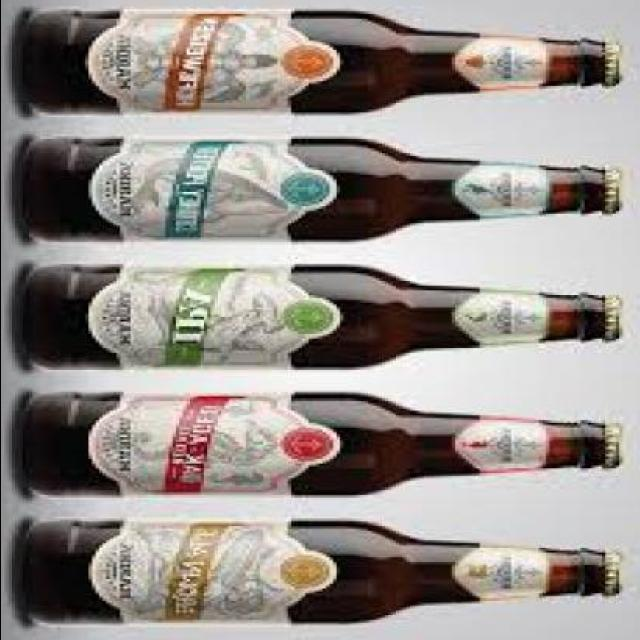kaca: (17, 136, 607, 242), (14, 393, 607, 498), (22, 8, 604, 114), (18, 522, 604, 624), (25, 267, 604, 370)
